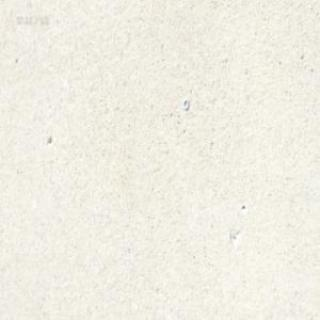Washertrack_idkeyframe: (182, 98, 188, 110)
